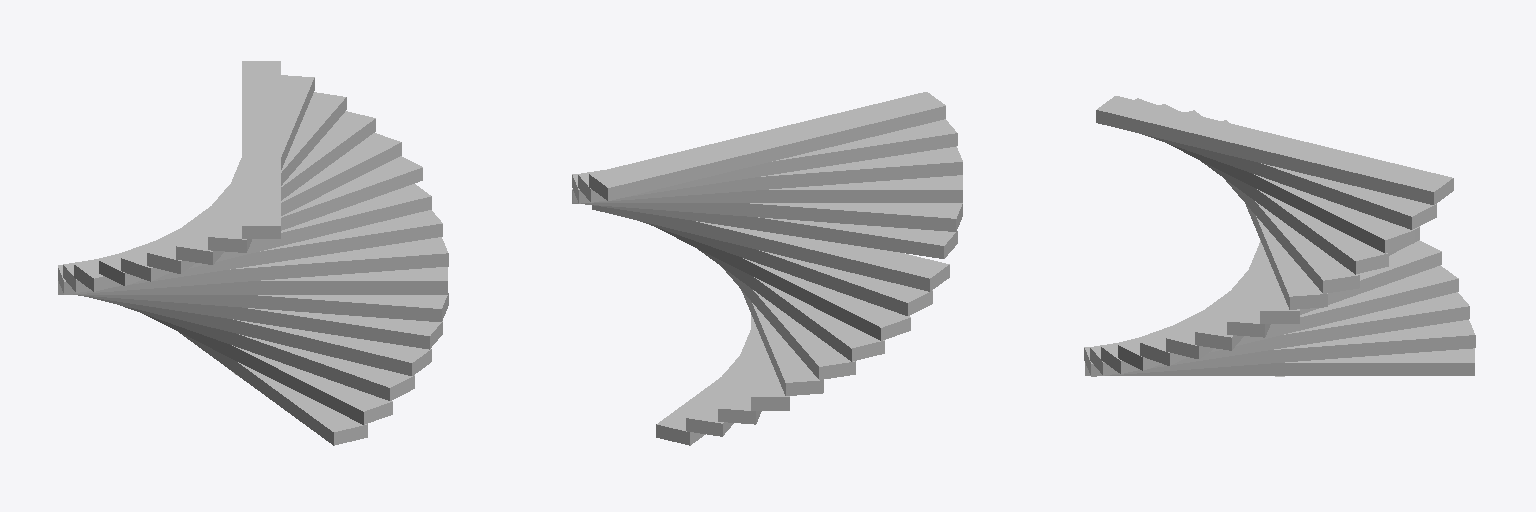
The model's file is low stair.obj.
The picture shows the model from 3 angles: view 1: azimuth 30°, elevation 25°; view 2: azimuth 150°, elevation 25°; view 3: azimuth 270°, elevation 25°; orthographic projection.
Visible parts, largest first — view 1: Mesh21, Mesh1, Mesh4, Mesh5, Mesh60, Mesh3, Mesh28, Mesh16, Mesh17, Mesh49, Mesh19, Mesh18 (+4 smaller); view 2: Mesh21, Mesh16, Mesh19, Mesh23, Mesh22, Mesh20, Mesh18, Mesh1, Mesh28, Mesh4, Mesh3, Mesh5 (+4 smaller); view 3: Mesh21, Mesh49, Mesh17, Mesh2, Mesh60, Mesh22, Mesh23, Mesh20, Mesh19, Mesh5, Mesh18, Mesh28 (+4 smaller).
Part boxes in pixels (bbox=[...]): Mesh21: bbox=[242, 61, 280, 238]; Mesh1: bbox=[58, 237, 448, 294]; Mesh4: bbox=[58, 265, 447, 294]; Mesh5: bbox=[78, 295, 442, 349]; Mesh60: bbox=[89, 297, 431, 375]; Mesh3: bbox=[81, 293, 448, 321]; Mesh28: bbox=[63, 210, 442, 292]; Mesh16: bbox=[74, 184, 431, 291]; Mesh17: bbox=[120, 305, 414, 400]; Mesh49: bbox=[144, 314, 392, 424]; Mesh19: bbox=[121, 133, 401, 281]; Mesh18: bbox=[99, 156, 422, 285]; Mesh21: bbox=[589, 92, 945, 200]; Mesh16: bbox=[592, 205, 949, 291]; Mesh19: bbox=[572, 189, 962, 231]; Mesh23: bbox=[572, 146, 962, 203]; Mesh22: bbox=[578, 119, 957, 202]; Mesh20: bbox=[573, 175, 962, 202]; Mesh18: bbox=[594, 205, 957, 258]; Mesh1: bbox=[656, 227, 910, 340]; Mesh28: bbox=[640, 221, 932, 315]; Mesh4: bbox=[698, 249, 884, 361]; Mesh3: bbox=[722, 267, 855, 379]; Mesh5: bbox=[741, 290, 823, 395]; Mesh21: bbox=[1096, 96, 1453, 204]; Mesh49: bbox=[1084, 320, 1475, 376]; Mesh17: bbox=[1090, 292, 1469, 375]; Mesh2: bbox=[1085, 348, 1474, 375]; Mesh60: bbox=[1101, 265, 1458, 373]; Mesh22: bbox=[1135, 98, 1436, 229]; Mesh23: bbox=[1159, 104, 1414, 253]; Mesh20: bbox=[1186, 110, 1388, 274]; Mesh19: bbox=[1222, 120, 1359, 293]; Mesh5: bbox=[1118, 240, 1441, 370]; Mesh18: bbox=[1246, 205, 1327, 309]; Mesh28: bbox=[1227, 243, 1270, 337].
Bounding box in the file's own units: 39.07 × 24.62 × 38.41.